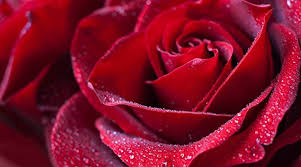rose: (49, 1, 301, 167)
